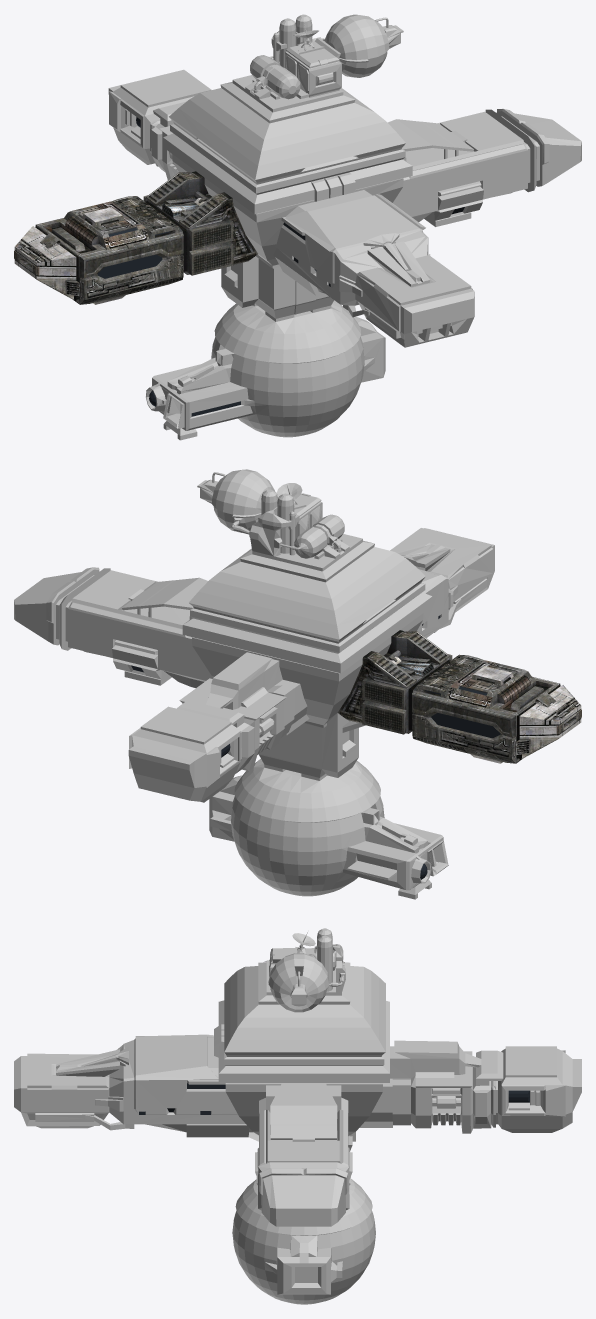
Rendered from spacestation_outpost_mining_l0.fbx.
3 views of the same model, one above another, from view 1: azimuth 30°, elevation 25°; view 2: azimuth 150°, elevation 25°; view 3: azimuth 270°, elevation 25° (orthographic). The views are drawn at different scales.
Visible parts, largest first — view 1: mesh_node; view 2: mesh_node; view 3: mesh_node.
Part boxes in pixels (box(x1,y1,x2,y2)): mesh_node: box(14, 14, 581, 440); mesh_node: box(14, 469, 581, 899); mesh_node: box(14, 928, 581, 1304).
Size of the model in its own units: 306 by 218 by 298.
